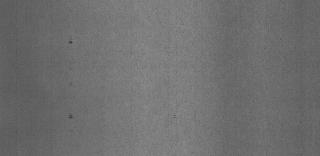oil spot: (68, 34, 76, 46), (66, 110, 74, 122), (69, 128, 75, 134)
